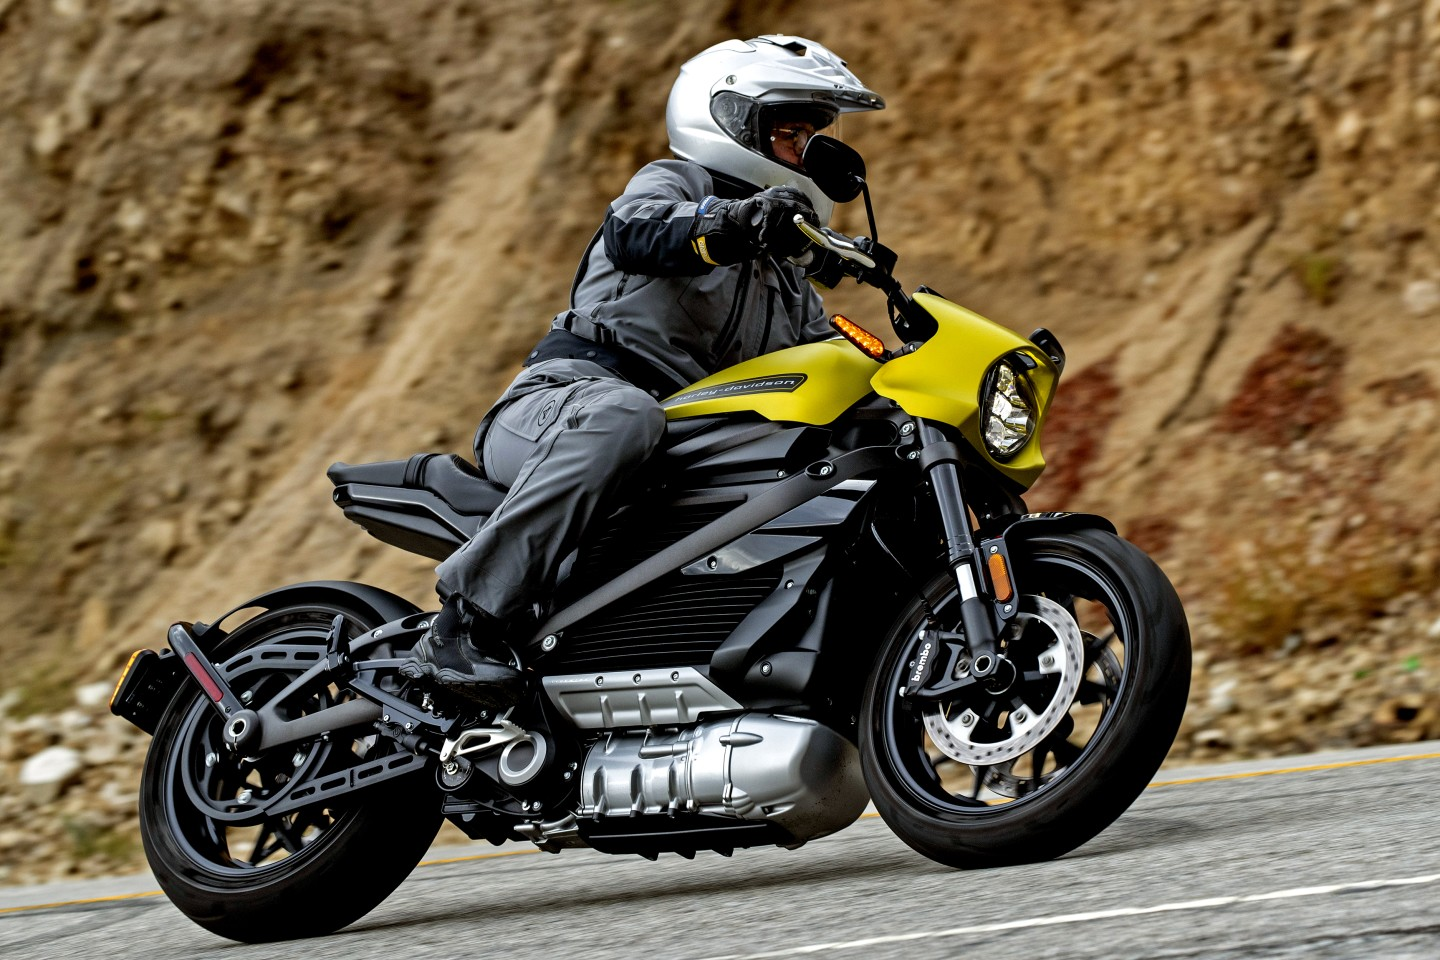bike: (111, 215, 1193, 945)
person: (401, 33, 893, 684)
